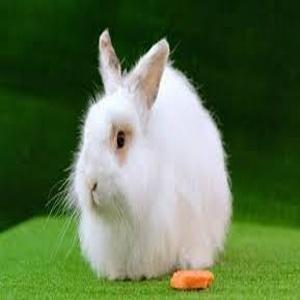rabbit: (68, 30, 231, 279)
